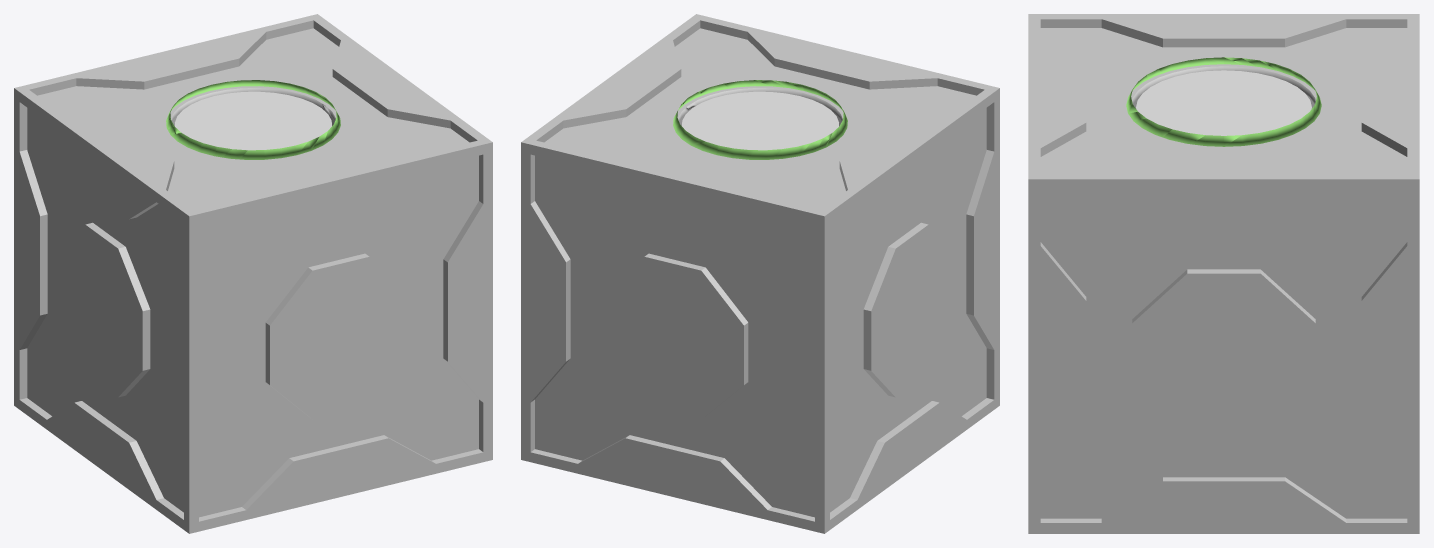
The model's file is MeeseeksBox.dae.
The picture shows the model from 3 angles, left to right: view 1: azimuth 30°, elevation 25°; view 2: azimuth 150°, elevation 25°; view 3: azimuth 270°, elevation 25°; orthographic projection. The views are drawn at different scales.
Parts seen in each view (by area): view 1: Meeseeks_Box, Circle; view 2: Meeseeks_Box, Circle; view 3: Meeseeks_Box, Circle.
Boxes of the visible parts, <box> form: Meeseeks_Box: <box>14,14,492,533</box>; Circle: <box>175,91,331,150</box>; Meeseeks_Box: <box>521,14,999,533</box>; Circle: <box>682,91,838,150</box>; Meeseeks_Box: <box>1028,14,1419,533</box>; Circle: <box>1136,70,1311,135</box>.
Bounding box in the file's own units: 2 × 2 × 2.
